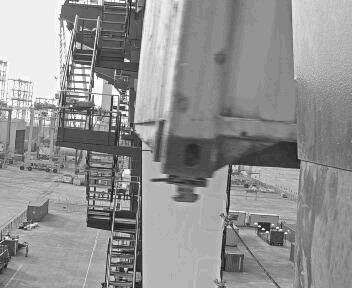twist_lock_1: (173, 169, 226, 211)
